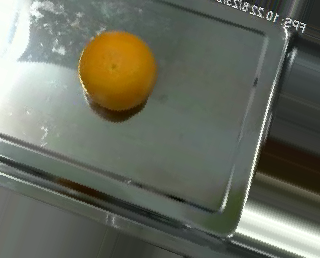Orange: (78, 30, 157, 111)
